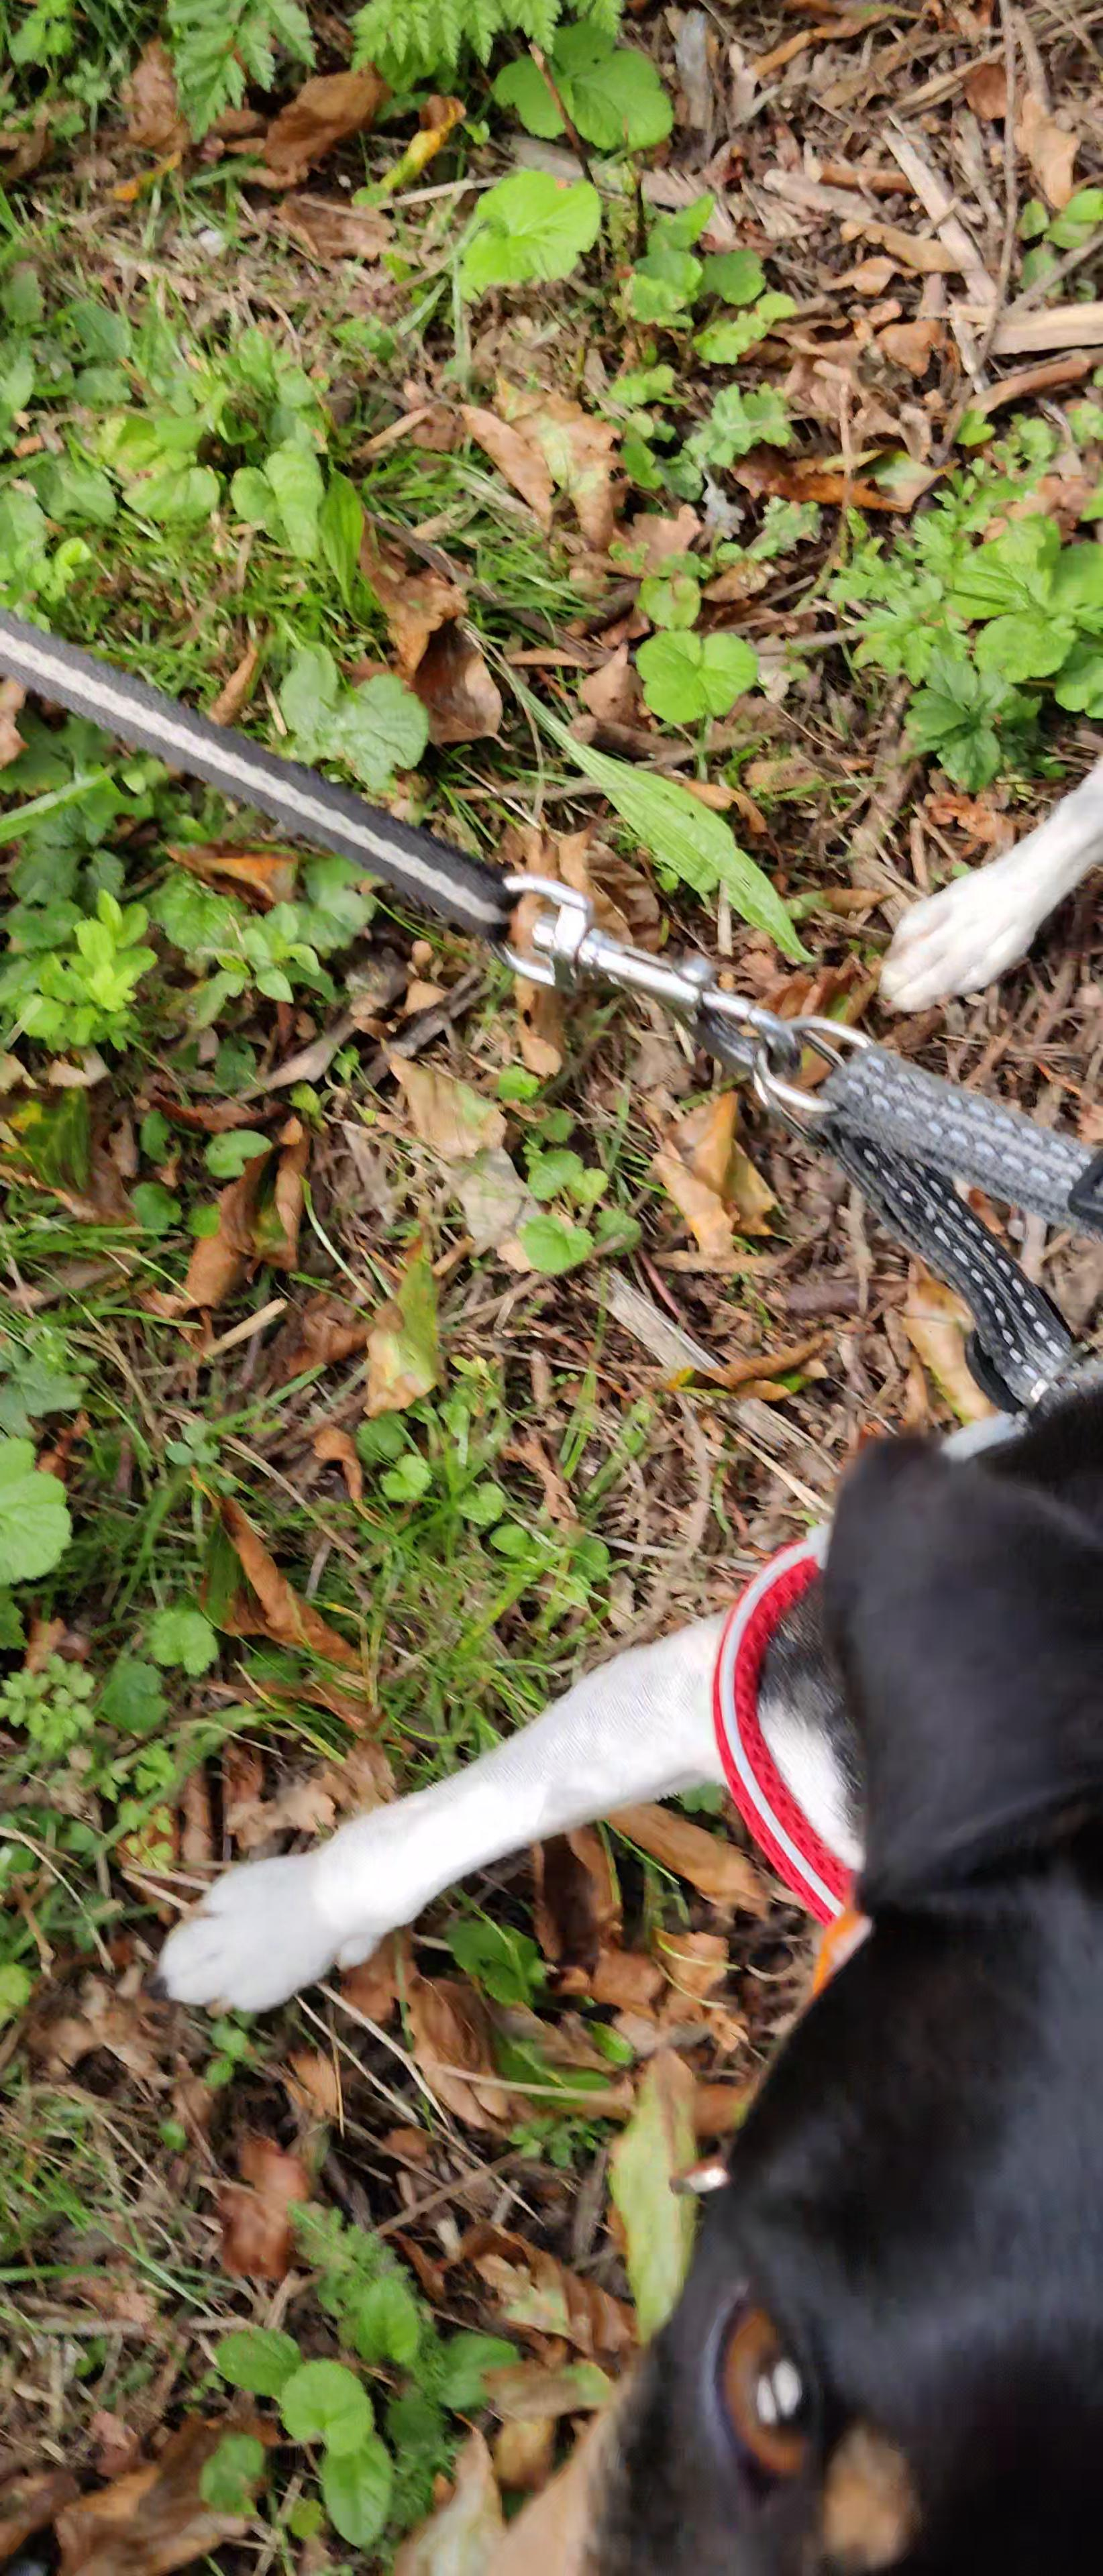Dog: (125, 700, 1103, 2576)
